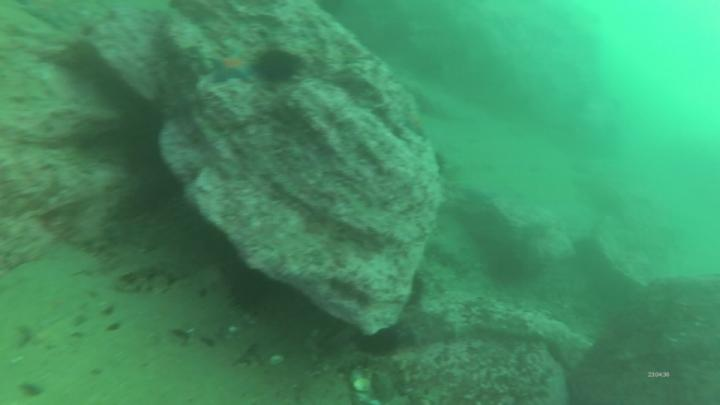echinus: (256, 51, 299, 82), (359, 328, 399, 356)
starfish: (210, 51, 254, 84)
